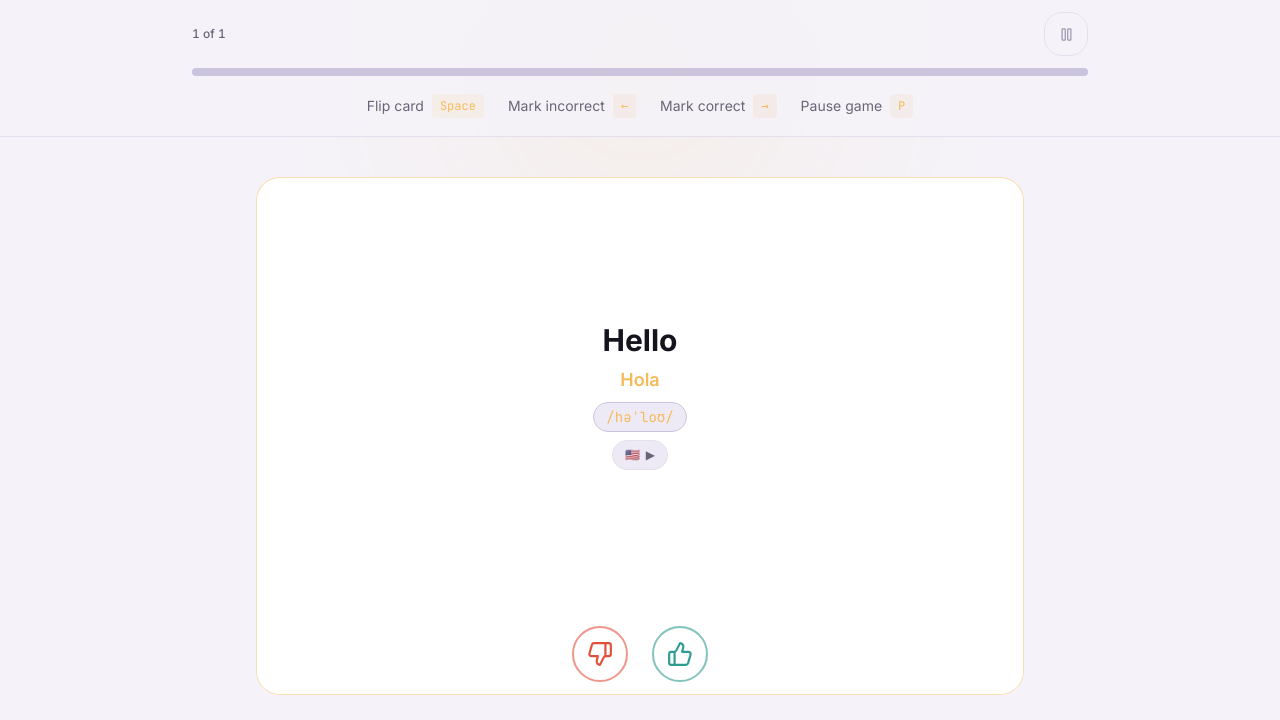
Test: GameContainer › shows record error when saving an attempt fails
Click the button named "I knew it". click: [680, 654]
box: [652, 626, 708, 682]
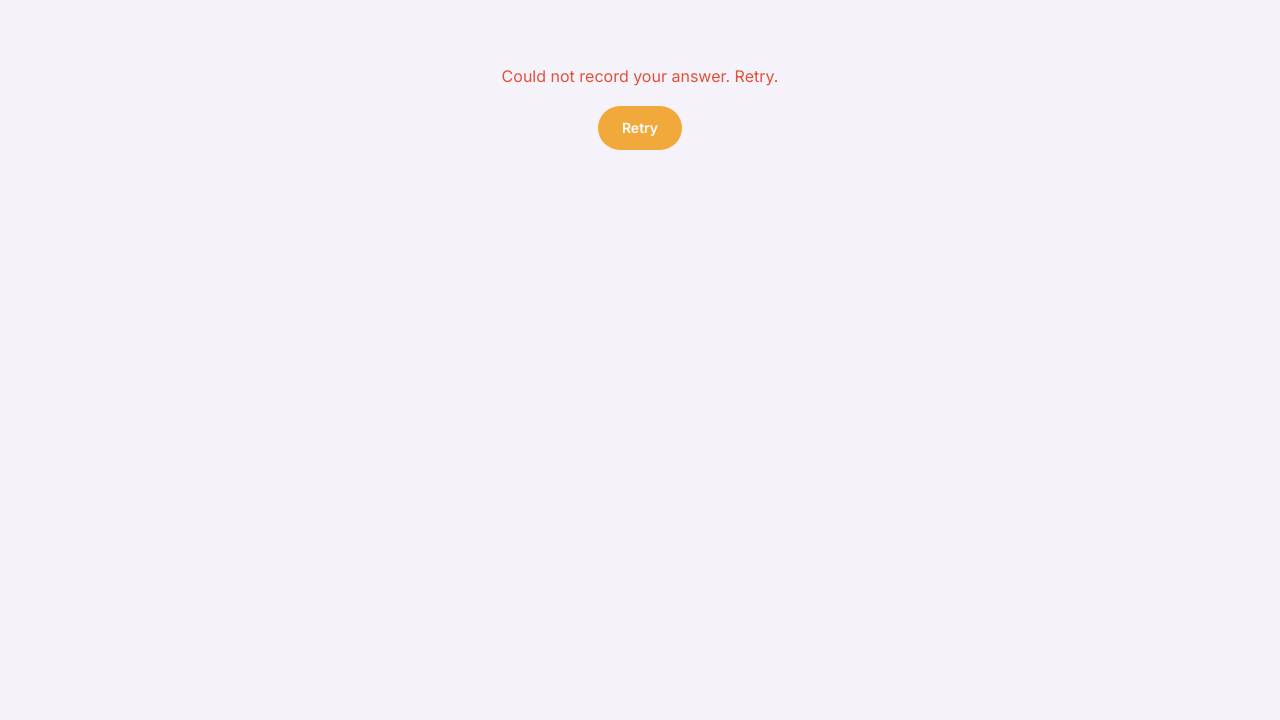
Expected: the text "Could not record your answer. Retry." is shown, [502, 64, 778, 90]
